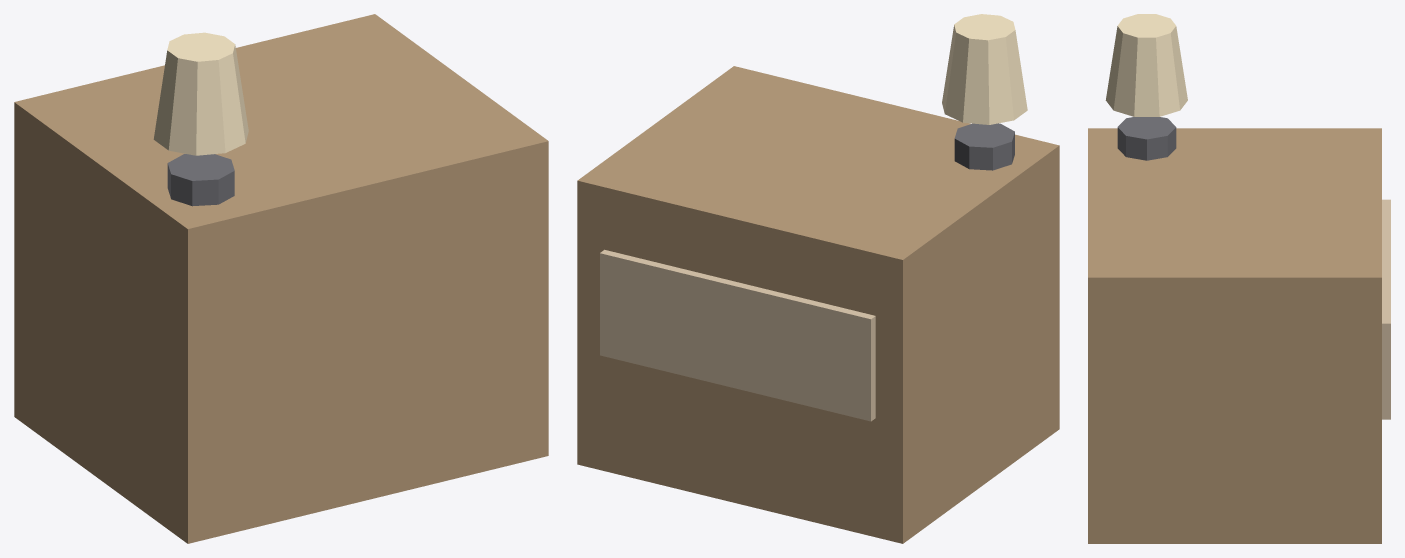
Rendered from Nightstand.fbx.
3 renders of one model, left to right at view 1: azimuth 30°, elevation 25°; view 2: azimuth 150°, elevation 25°; view 3: azimuth 270°, elevation 25°, orthographic. The views are drawn at different scales.
Parts seen in each view (by area): view 1: Nightstand_Mesh; view 2: Nightstand_Mesh; view 3: Nightstand_Mesh.
Boxes of the visible parts, x1=… form: Nightstand_Mesh: x1=14, y1=14, x2=548, y2=543; Nightstand_Mesh: x1=577, y1=14, x2=1059, y2=543; Nightstand_Mesh: x1=1088, y1=14, x2=1390, y2=543.
Size of the model in its own units: 0.6 by 0.515 by 0.73.
